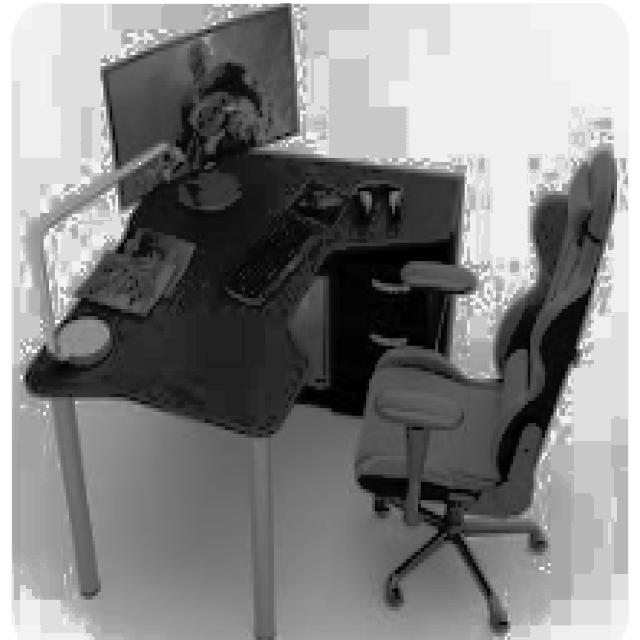book: (352, 147, 614, 629)
table: (23, 144, 464, 636)
